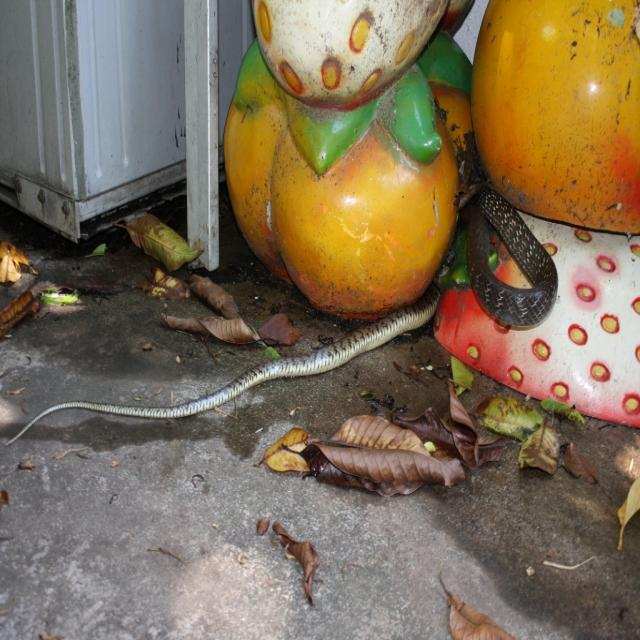Snake: (0, 172, 566, 454)
